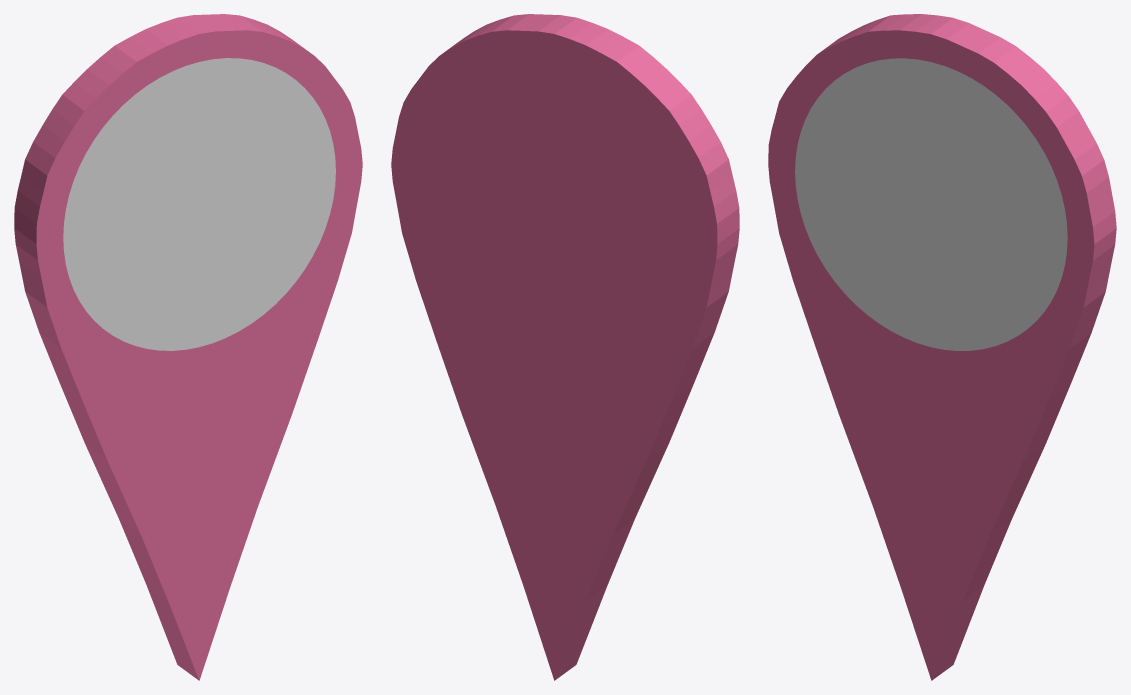
Rendered from PinMarque.fbx.
3 renders of one model, left to right at view 1: azimuth 30°, elevation 25°; view 2: azimuth 150°, elevation 25°; view 3: azimuth 330°, elevation 25°, orthographic.
Parts seen in each view (by area): view 1: PinMarque; view 2: PinMarque; view 3: PinMarque.
Part boxes in pixels (x1,y1,x2,y2): PinMarque: [14, 14, 362, 680]; PinMarque: [391, 14, 739, 680]; PinMarque: [768, 14, 1116, 680].
Size of the model in its own units: 198 by 375 by 23.48.
